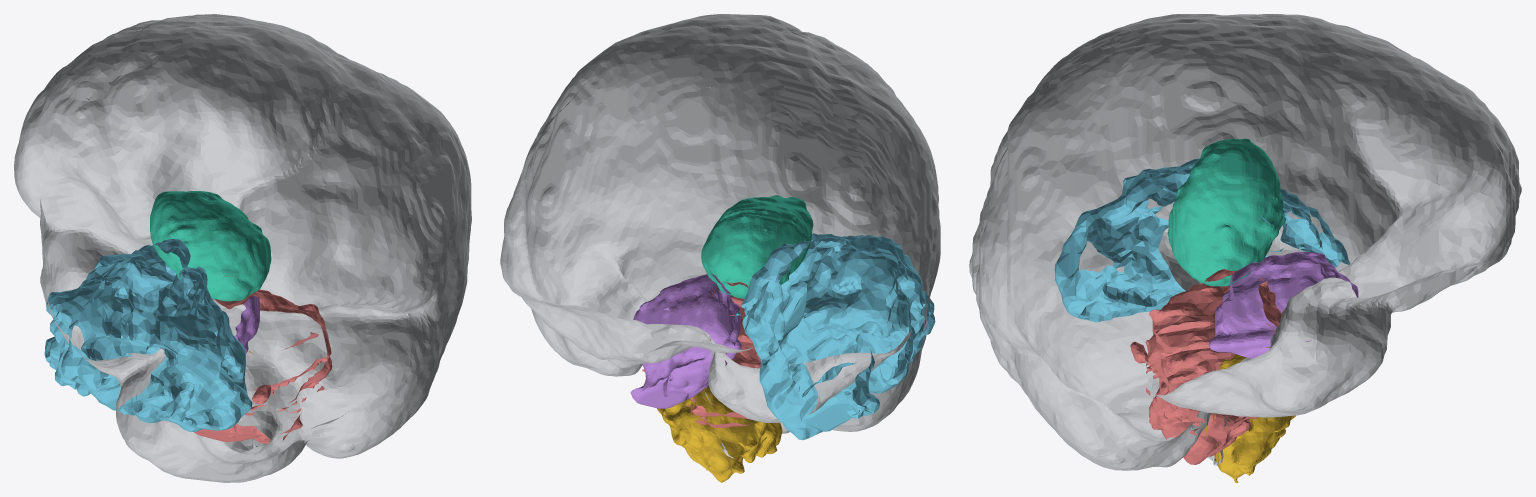
The model's file is case_peds_tumours.glb.
3 views of the same model, side by side, from view 1: azimuth 30°, elevation 25°; view 2: azimuth 150°, elevation 25°; view 3: azimuth 270°, elevation 25° (orthographic). The views are drawn at different scales.
Visible parts, largest first — view 1: Reference brain surface, Paediatric left cerebellar hemispheric cystic-solid tumour (, Paediatric left thalamic diffuse midline glioma (17.5 mL, Br, Paediatric fourth-ventricular / vermian midline tumour (medu, Paediatric suprasellar / hypothalamic-chiasmatic optic-pathw; view 2: Reference brain surface, Paediatric left cerebellar hemispheric cystic-solid tumour (, Paediatric suprasellar / hypothalamic-chiasmatic optic-pathw, Paediatric left thalamic diffuse midline glioma (17.5 mL, Br, Paediatric intrinsic ventral pontine diffuse midline glioma , Paediatric fourth-ventricular / vermian midline tumour (medu; view 3: Reference brain surface, Paediatric left cerebellar hemispheric cystic-solid tumour (, Paediatric left thalamic diffuse midline glioma (17.5 mL, Br, Paediatric fourth-ventricular / vermian midline tumour (medu, Paediatric suprasellar / hypothalamic-chiasmatic optic-pathw, Paediatric intrinsic ventral pontine diffuse midline glioma .
Boxes of the visible parts, <box> form: Reference brain surface: <box>14,14,471,482</box>; Paediatric left cerebellar hemispheric cystic-solid tumour (: <box>44,239,252,431</box>; Paediatric left thalamic diffuse midline glioma (17.5 mL, Br: <box>150,191,271,301</box>; Paediatric fourth-ventricular / vermian midline tumour (medu: <box>194,276,332,444</box>; Paediatric suprasellar / hypothalamic-chiasmatic optic-pathw: <box>234,293,259,353</box>; Reference brain surface: <box>500,14,940,458</box>; Paediatric left cerebellar hemispheric cystic-solid tumour (: <box>735,233,935,440</box>; Paediatric suprasellar / hypothalamic-chiasmatic optic-pathw: <box>630,273,741,408</box>; Paediatric left thalamic diffuse midline glioma (17.5 mL, Br: <box>701,195,813,298</box>; Paediatric intrinsic ventral pontine diffuse midline glioma : <box>657,385,782,482</box>; Paediatric fourth-ventricular / vermian midline tumour (medu: <box>642,282,760,428</box>; Reference brain surface: <box>969,14,1521,470</box>; Paediatric left cerebellar hemispheric cystic-solid tumour (: <box>1054,158,1350,322</box>; Paediatric left thalamic diffuse midline glioma (17.5 mL, Br: <box>1167,138,1285,286</box>; Paediatric fourth-ventricular / vermian midline tumour (medu: <box>1130,269,1282,464</box>; Paediatric suprasellar / hypothalamic-chiasmatic optic-pathw: <box>1208,252,1358,358</box>; Paediatric intrinsic ventral pontine diffuse midline glioma : <box>1204,347,1295,482</box>.
Bounding box in the file's own units: 127 × 139 × 155.
